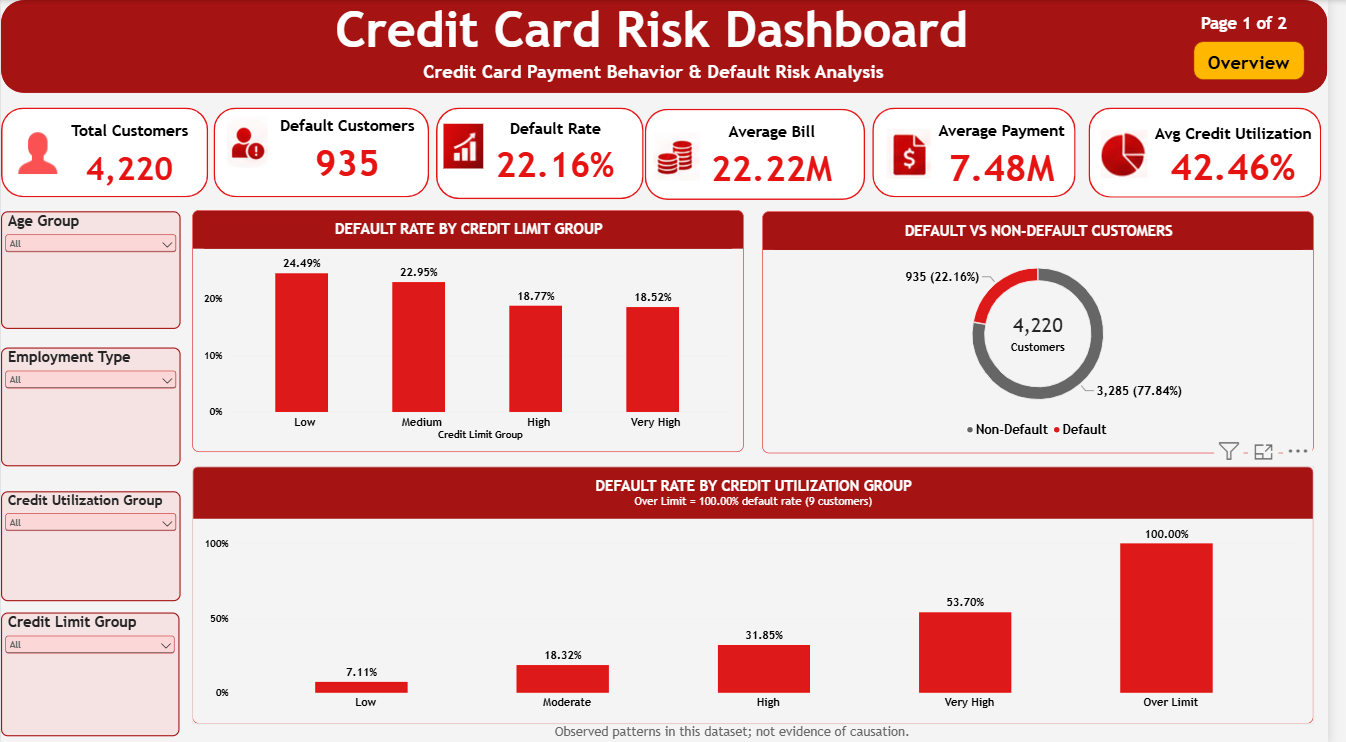

This screenshot's page, from the dashboard's own definition file:
{"tool":"powerbi","page":{"name":"Page 1","canvas":[1920,1080],"ordinal":0},"visuals":[{"type":"shape","box":[0,0,1920.4,134.6],"z":0,"group":"g9"},{"type":"group","id":"g1","title":"Group 2","box":[1725.9,59.9,160.8,56.1],"z":0,"group":"g8"},{"type":"shape","box":[1725.9,59.9,160.8,56.1],"z":0,"group":"g1"},{"type":"group","id":"g2","title":"Group 1","box":[0,155.2,301.1,130.9],"z":0},{"type":"shape","box":[0,155.2,300,130],"z":0,"group":"g2"},{"type":"shape","box":[630.2,155.2,300.5,132.7],"z":0,"group":"g6"},{"type":"shape","box":[1262.2,155.2,294.5,130],"z":0,"group":"g7"},{"type":"shape","box":[1574.4,155.2,337,130.8],"z":0,"group":"g4"},{"type":"shape","box":[307.5,156,312.3,130],"z":0,"group":"g3"},{"type":"shape","box":[931.2,157.1,319,132],"z":0,"group":"g5"},{"type":"textbox","box":[175.6,0,1510.6,87.8],"z":1000,"group":"g9"},{"type":"textbox","box":[1725.9,20.6,145.9,39.3],"z":1000,"group":"g8"},{"type":"textbox","box":[1738.6,59.9,146.9,54.2],"z":1000,"group":"g1"},{"type":"group","id":"g3","title":"Group 1","box":[307.5,156,312.3,130],"z":1000},{"type":"cardVisual","title":"Default Customers","fields":{"Data":["Clean_Data.Default Customers"]},"box":[403.8,168.5,195.2,93.7],"z":1000,"group":"g3"},{"type":"cardVisual","title":"Default Rate","fields":{"Data":["Clean_Data.Default Rate %"]},"box":[694.9,170.6,214.9,90.4],"z":1000,"group":"g6"},{"type":"cardVisual","title":"Total Customers","fields":{"Data":["Clean_Data.Total Customers"]},"box":[95.8,174.4,181,93.7],"z":1000,"group":"g2"},{"type":"cardVisual","title":"Average Payment","fields":{"Data":["Clean_Data.Average Payment"]},"box":[1355.3,174.7,189.6,91.7],"z":1000,"group":"g7"},{"type":"cardVisual","title":"Average Bill","fields":{"Data":["Clean_Data.Average Bill"]},"box":[1011.7,176.6,208.2,89.8],"z":1000,"group":"g5"},{"type":"cardVisual","title":" Avg Credit Utilization","fields":{"Data":["Clean_Data.Average Credit Utilization %"]},"box":[1666.8,179.4,234,82],"z":1000,"group":"g4"},{"type":"textbox","box":[196.3,87.9,1490.3,65.4],"z":2000,"group":"g9"},{"type":"group","id":"g4","title":"Group 1","box":[1574.4,155.2,338.5,130.9],"z":2000},{"type":"image","box":[316,168.5,80,74.6],"z":2000,"group":"g3"},{"type":"image","box":[633.8,178.6,72.2,64.4],"z":2000,"group":"g6"},{"type":"image","box":[1592.4,186,67.1,72.6],"z":2000,"group":"g4"},{"type":"image","box":[18.7,186.3,70.3,72.2],"z":2000,"group":"g2"},{"type":"image","box":[1280.6,186.3,69,72.2],"z":2000,"group":"g7"},{"type":"image","box":[943.6,190.3,66.8,72.9],"z":2000,"group":"g5"},{"type":"group","id":"g5","title":"Group 1","box":[931.2,157.1,319.8,130.9],"z":3000},{"type":"group","id":"g6","title":"Group 1","box":[630.2,155.2,301.1,132.8],"z":4000},{"type":"group","id":"g7","title":"Group 1","box":[1262.2,155.2,293.6,130.9],"z":5000},{"type":"clusteredColumnChart","title":"DEFAULT RATE BY CREDIT LIMIT GROUP","fields":{"Category":["Clean_Data.Credit_Limit_Group"],"Y":["Clean_Data.Default Rate %"]},"box":[276.7,304.8,798.4,350],"z":6000},{"type":"donutChart","title":"DEFAULT VS NON-DEFAULT CUSTOMERS","fields":{"Category":["Clean_Data.Default Status"],"Y":["Clean_Data.Customer Count"]},"box":[1101.4,306.7,798.4,350],"z":7000},{"type":"slicer","title":"Credit Limit Group","fields":{"Values":["Clean_Data.Credit_Limit_Group"]},"box":[0,886.3,258,179.5],"z":8000},{"type":"slicer","title":"Credit Limit Group","fields":{"Values":["Clean_Data.Age_Group"]},"box":[0,306.7,259.9,170.2],"z":9000},{"type":"slicer","title":"Credit Limit Group","fields":{"Values":["Clean_Data.Credit_Utilization_Group"]},"box":[0,710.6,259.9,158.9],"z":10000},{"type":"group","id":"g8","title":"Group 3","box":[1725.9,20.6,160.8,95.4],"z":11000,"group":"g9"},{"type":"slicer","title":"Credit Limit Group","fields":{"Values":["Clean_Data.EmploymentType"]},"box":[0,503,259.9,172],"z":11000},{"type":"clusteredColumnChart","title":"DEFAULT RATE BY CREDIT UTILIZATION GROUP","fields":{"Category":["Clean_Data.Credit_Utilization_Group"],"Y":["Clean_Data.Default Rate %"]},"box":[276.9,675,1623.3,372.8],"z":12000},{"type":"group","id":"g9","title":"Group 4","box":[0,0,1920.4,153.3],"z":13000},{"type":"textbox","box":[801.7,1047.8,942.8,32.6],"z":13001}]}

Visuals, with their boxes in screenshot pixels (x1, y1, x2, y2), scaled from the page's 1920x1080 canvas onto the 1346x742 screenshot:
shape: x1=0 y1=0 x2=1345 y2=92
"Group 2" group: x1=1210 y1=41 x2=1323 y2=80
shape: x1=1210 y1=41 x2=1323 y2=80
"Group 1" group: x1=0 y1=107 x2=211 y2=197
shape: x1=0 y1=107 x2=210 y2=196
shape: x1=442 y1=107 x2=652 y2=198
shape: x1=885 y1=107 x2=1091 y2=196
shape: x1=1104 y1=107 x2=1340 y2=196
shape: x1=216 y1=107 x2=435 y2=196
shape: x1=653 y1=108 x2=876 y2=199
textbox: x1=123 y1=0 x2=1182 y2=60
textbox: x1=1210 y1=14 x2=1312 y2=41
textbox: x1=1219 y1=41 x2=1322 y2=78
"Group 1" group: x1=216 y1=107 x2=435 y2=196
"Default Customers" cardVisual: x1=283 y1=116 x2=420 y2=180
"Default Rate" cardVisual: x1=487 y1=117 x2=638 y2=179
"Total Customers" cardVisual: x1=67 y1=120 x2=194 y2=184
"Average Payment" cardVisual: x1=950 y1=120 x2=1083 y2=183
"Average Bill" cardVisual: x1=709 y1=121 x2=855 y2=183
" Avg Credit Utilization" cardVisual: x1=1168 y1=123 x2=1333 y2=180
textbox: x1=138 y1=60 x2=1182 y2=105
"Group 1" group: x1=1104 y1=107 x2=1341 y2=197
image: x1=222 y1=116 x2=278 y2=167
image: x1=444 y1=123 x2=495 y2=167
image: x1=1116 y1=128 x2=1163 y2=178
image: x1=13 y1=128 x2=62 y2=178
image: x1=898 y1=128 x2=946 y2=178
image: x1=662 y1=131 x2=708 y2=181
"Group 1" group: x1=653 y1=108 x2=877 y2=198
"Group 1" group: x1=442 y1=107 x2=653 y2=198
"Group 1" group: x1=885 y1=107 x2=1091 y2=197
"DEFAULT RATE BY CREDIT LIMIT GROUP" clusteredColumnChart: x1=194 y1=209 x2=754 y2=450
"DEFAULT VS NON-DEFAULT CUSTOMERS" donutChart: x1=772 y1=211 x2=1332 y2=451
"Credit Limit Group" slicer: x1=0 y1=609 x2=181 y2=732
"Credit Limit Group" slicer: x1=0 y1=211 x2=182 y2=328
"Credit Limit Group" slicer: x1=0 y1=488 x2=182 y2=597
"Group 3" group: x1=1210 y1=14 x2=1323 y2=80
"Credit Limit Group" slicer: x1=0 y1=346 x2=182 y2=464
"DEFAULT RATE BY CREDIT UTILIZATION GROUP" clusteredColumnChart: x1=194 y1=464 x2=1332 y2=720
"Group 4" group: x1=0 y1=0 x2=1345 y2=105
textbox: x1=562 y1=720 x2=1223 y2=741
